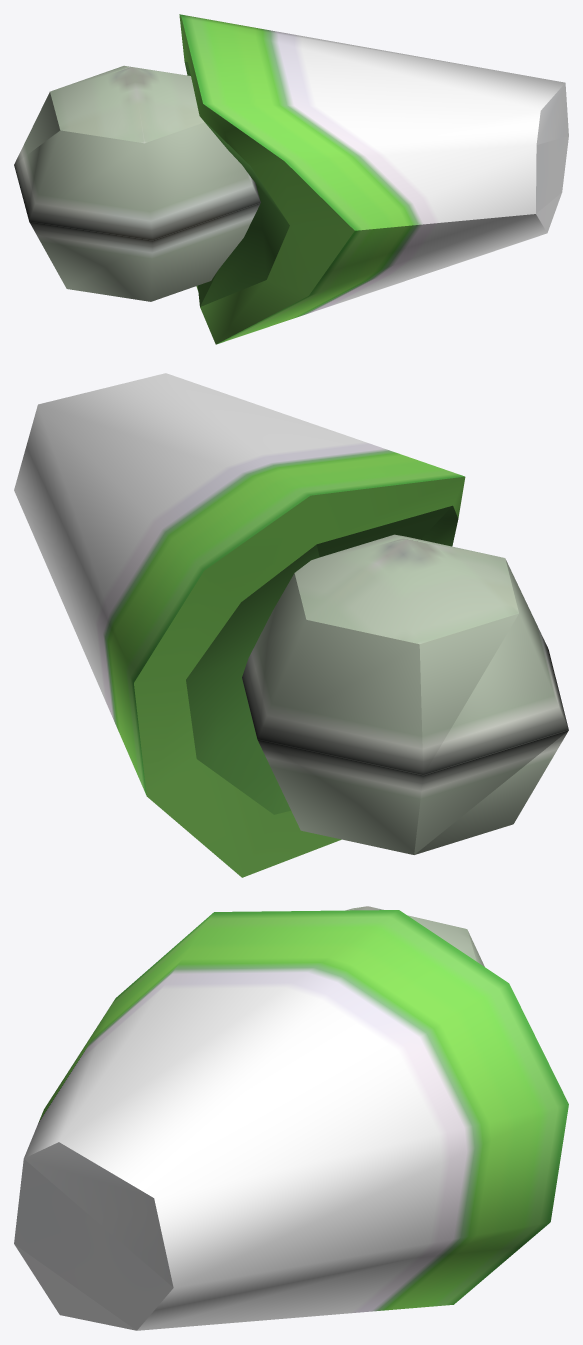
File: buzzlightyLeftForearm.obj
3 views of the same model, one above another, from view 1: azimuth 30°, elevation 25°; view 2: azimuth 150°, elevation 25°; view 3: azimuth 270°, elevation 25° (orthographic). The views are drawn at different scales.
Visible parts, largest first — view 1: buzzlightyLeftForearm_buzzlighty.001; view 2: buzzlightyLeftForearm_buzzlighty.001; view 3: buzzlightyLeftForearm_buzzlighty.001.
Boxes of the visible parts, x1,y1,x2,y2 form: buzzlightyLeftForearm_buzzlighty.001: [14, 14, 568, 344]; buzzlightyLeftForearm_buzzlighty.001: [14, 373, 568, 877]; buzzlightyLeftForearm_buzzlighty.001: [14, 906, 568, 1330].
Size of the model in its own units: 0.1668 by 0.0927 by 0.1245.
1 material, 1 textured.
